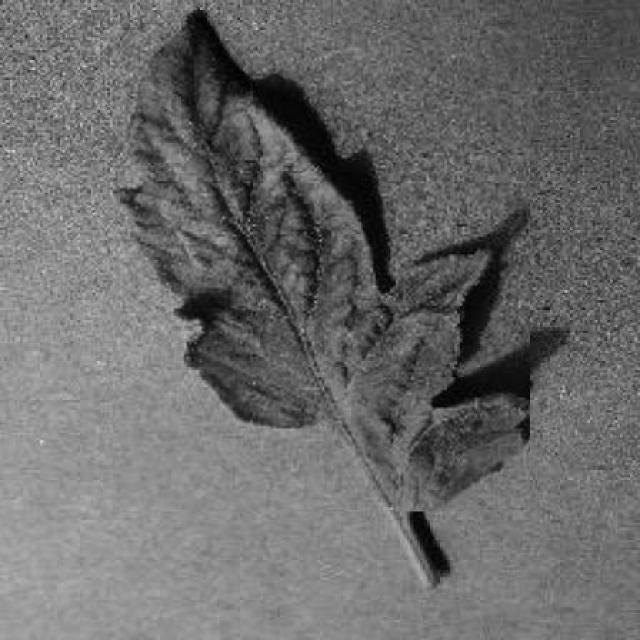Mosaic Virus: (113, 25, 530, 512)
